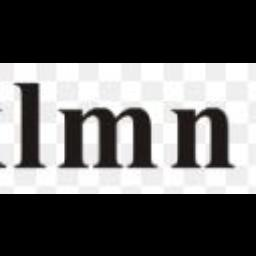l: (6, 78, 52, 170)
m: (56, 104, 160, 172)
n: (168, 104, 236, 170)
